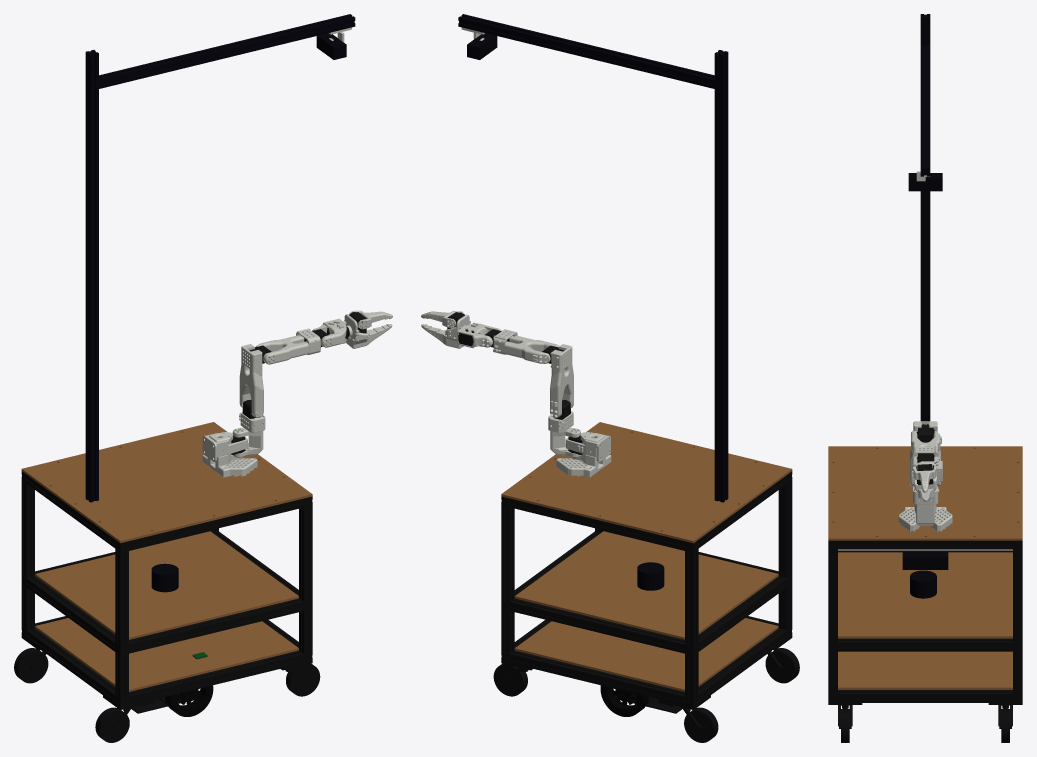
Rendered from mobile_robot.glb.
The picture shows the model from 3 angles, left to right: view 1: azimuth 30°, elevation 25°; view 2: azimuth 150°, elevation 25°; view 3: azimuth 270°, elevation 25°; orthographic projection.
Parts seen in each view (by area): view 1: decks_link_0, base_link_0, camera_support_link_0, arm_upper_arm_link_1, arm_base_link_1, right_wheel_link_0, arm_lower_arm_link_0, laser_link_0, arm_gripper_link_1, arm_wrist_link_1; view 2: decks_link_0, base_link_0, camera_support_link_0, arm_upper_arm_link_1, arm_base_link_1, left_wheel_link_0, arm_lower_arm_link_0, laser_link_0, arm_wrist_link_1, arm_gripper_link_1; view 3: decks_link_0, base_link_0, camera_support_link_0, camera_link_0, arm_base_link_1, laser_link_0, top_camera_link_0, arm_shoulder_link_2, arm_gripper_link_1, arm_moving_jaw_so101_v1_link_0, arm_lower_arm_link_0, arm_upper_arm_link_1.
Boxes of the visible parts, bbox=[...] form: decks_link_0: bbox=[21, 422, 312, 691]; base_link_0: bbox=[14, 471, 320, 742]; camera_support_link_0: bbox=[85, 14, 355, 502]; arm_upper_arm_link_1: bbox=[239, 344, 263, 417]; arm_base_link_1: bbox=[202, 432, 257, 477]; right_wheel_link_0: bbox=[164, 685, 213, 716]; arm_lower_arm_link_0: bbox=[256, 335, 315, 364]; laser_link_0: bbox=[151, 563, 178, 592]; arm_gripper_link_1: bbox=[344, 314, 392, 348]; arm_wrist_link_1: bbox=[312, 318, 346, 347]; decks_link_0: bbox=[501, 422, 792, 691]; base_link_0: bbox=[493, 471, 799, 742]; camera_support_link_0: bbox=[458, 14, 728, 502]; arm_upper_arm_link_1: bbox=[550, 344, 573, 417]; arm_base_link_1: bbox=[556, 432, 611, 477]; left_wheel_link_0: bbox=[600, 685, 648, 716]; arm_lower_arm_link_0: bbox=[500, 335, 559, 363]; laser_link_0: bbox=[637, 562, 664, 590]; arm_wrist_link_1: bbox=[457, 322, 501, 348]; arm_gripper_link_1: bbox=[421, 314, 470, 348]; decks_link_0: bbox=[828, 446, 1022, 689]; base_link_0: bbox=[828, 540, 1022, 742]; camera_support_link_0: bbox=[920, 14, 930, 424]; camera_link_0: bbox=[902, 552, 948, 569]; arm_base_link_1: bbox=[898, 504, 952, 531]; laser_link_0: bbox=[910, 570, 936, 598]; top_camera_link_0: bbox=[908, 173, 942, 191]; arm_shoulder_link_2: bbox=[914, 488, 936, 525]; arm_gripper_link_1: bbox=[911, 463, 937, 501]; arm_moving_jaw_so101_v1_link_0: bbox=[913, 465, 936, 492]; arm_lower_arm_link_0: bbox=[911, 431, 941, 457]; arm_upper_arm_link_1: bbox=[910, 421, 942, 486].
Size of the model in its own units: 0.7855 by 1.46 by 0.4003.
